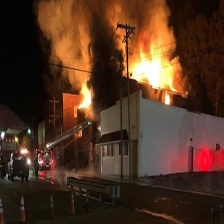fire: (131, 49, 175, 105), (75, 83, 95, 111)
smoke: (24, 1, 175, 61)
